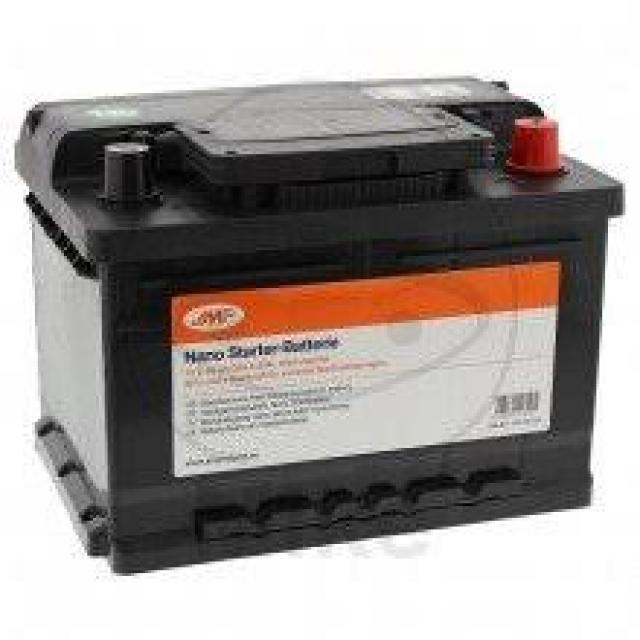non-organic waste: (13, 72, 627, 576)
